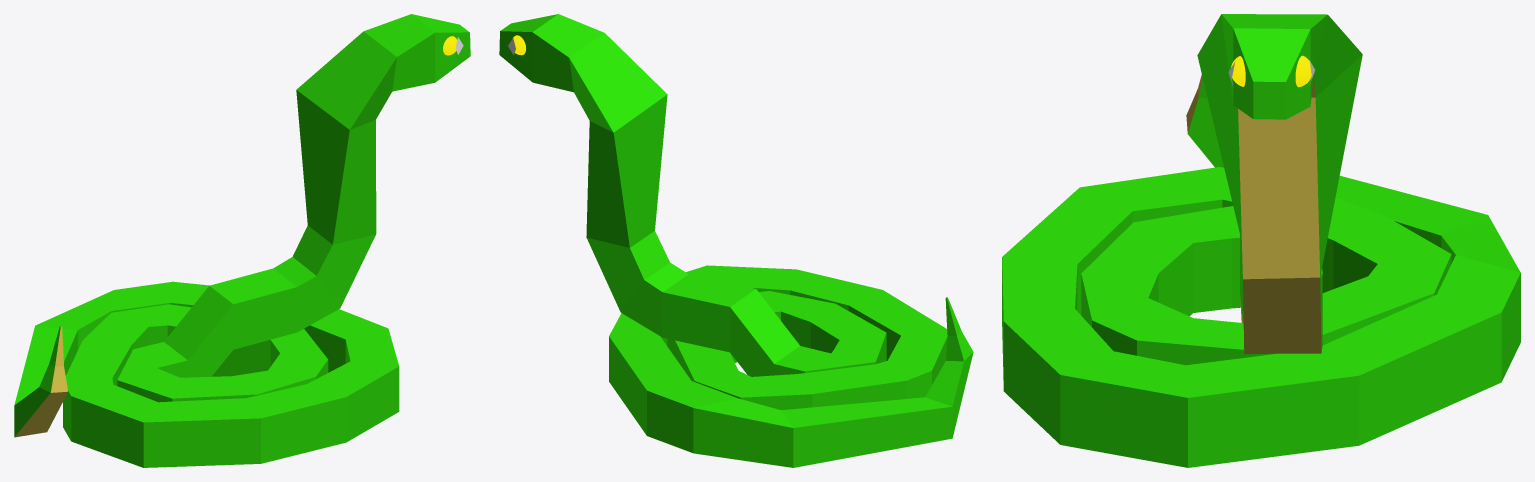
File: SnakeIcon.gltf
3 renders of one model, left to right at view 1: azimuth 30°, elevation 25°; view 2: azimuth 150°, elevation 25°; view 3: azimuth 270°, elevation 25°, orthographic. The views are drawn at different scales.
Parts seen in each view (by area): view 1: Cube; view 2: Cube; view 3: Cube.
Part boxes in pixels (<box>): Cube: <box>14,14,470,467</box>; Cube: <box>499,14,973,467</box>; Cube: <box>1002,14,1520,467</box>.
Size of the model in its own units: 5.43 by 3.65 by 3.52.
